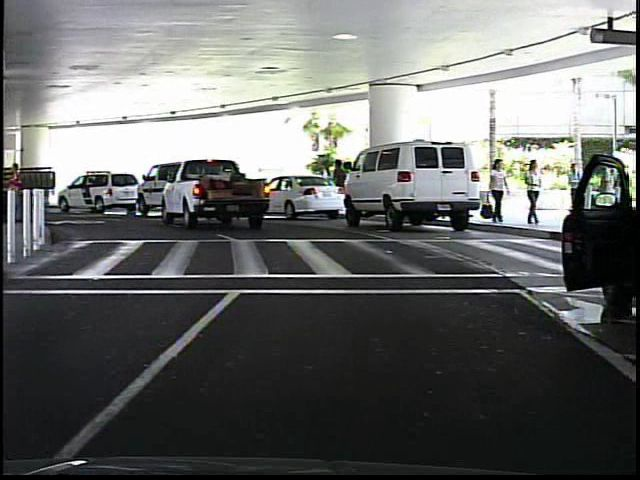person: (517, 156, 544, 228), (485, 156, 505, 227), (330, 155, 351, 215), (568, 159, 579, 189)
